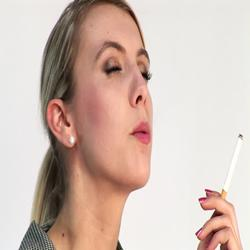cigarro: (216, 127, 248, 205)
fumador: (30, 5, 250, 244)
